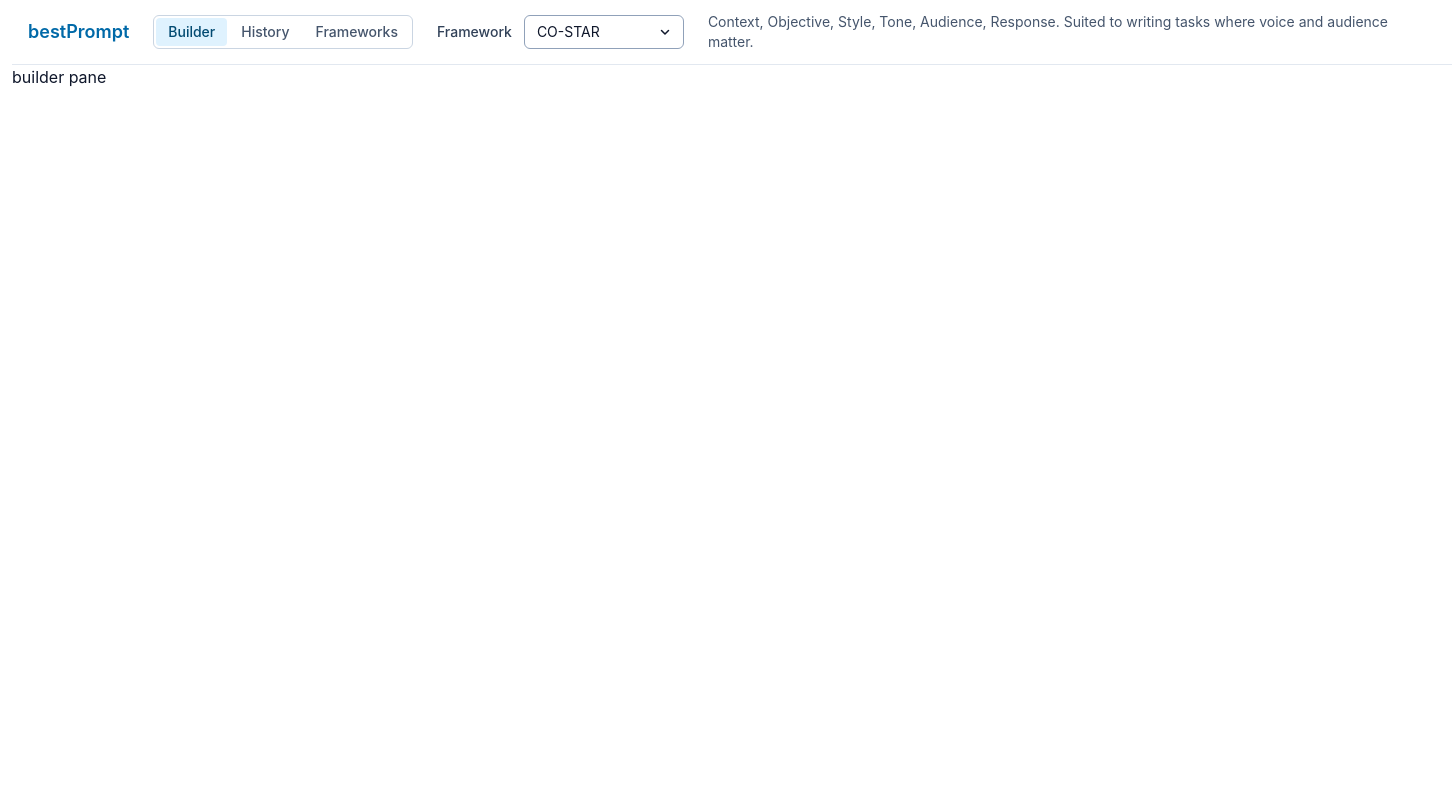
FrameworksView › a_saved_framework_appears_in_the_builder_picker
Click the tab "Frameworks" at (357, 32), box x1=304 y1=18 x2=410 y2=46
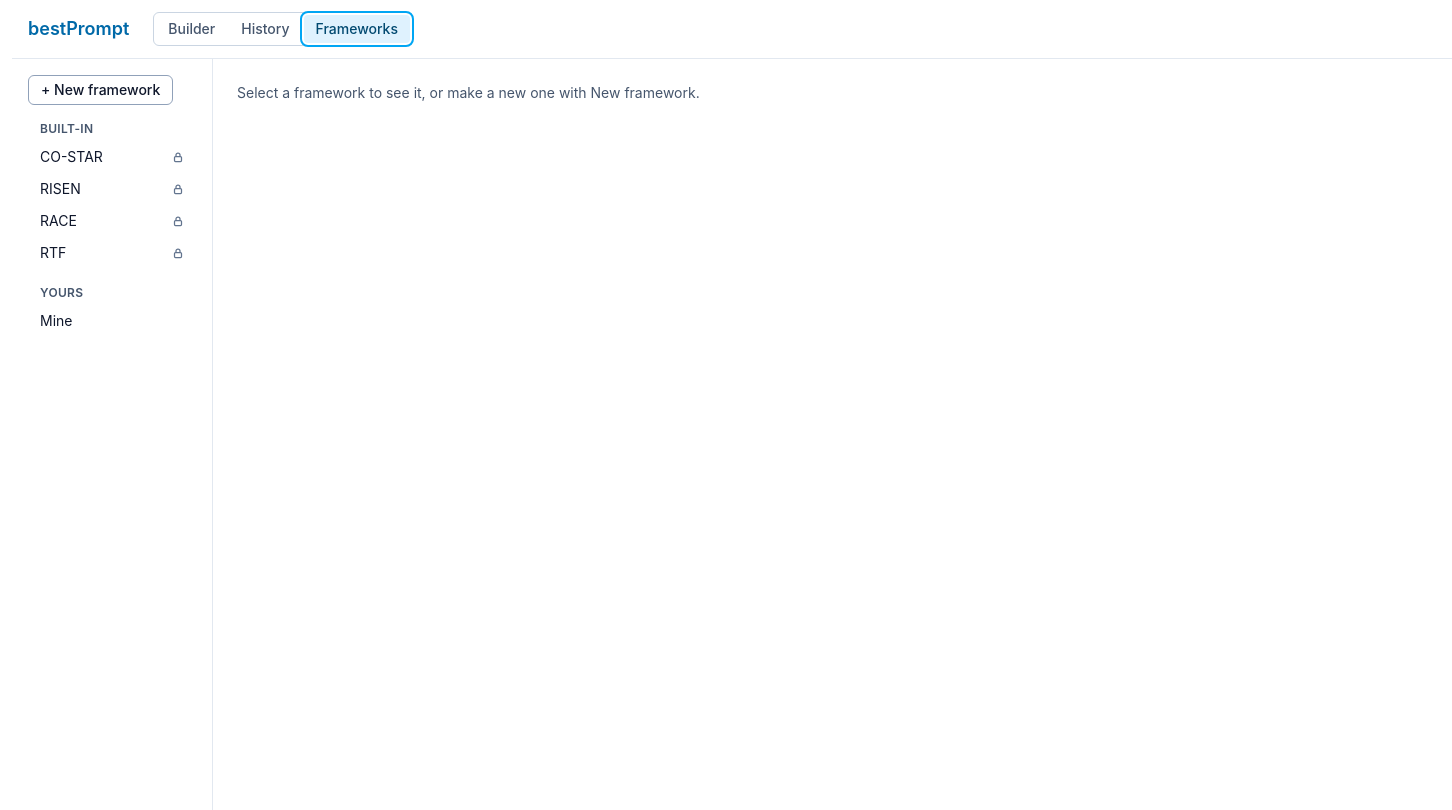
Result: the button "Mine" is shown at x1=28 y1=305 x2=196 y2=337
Click the button "+ New framework" at (101, 90), box x1=28 y1=75 x2=173 y2=105
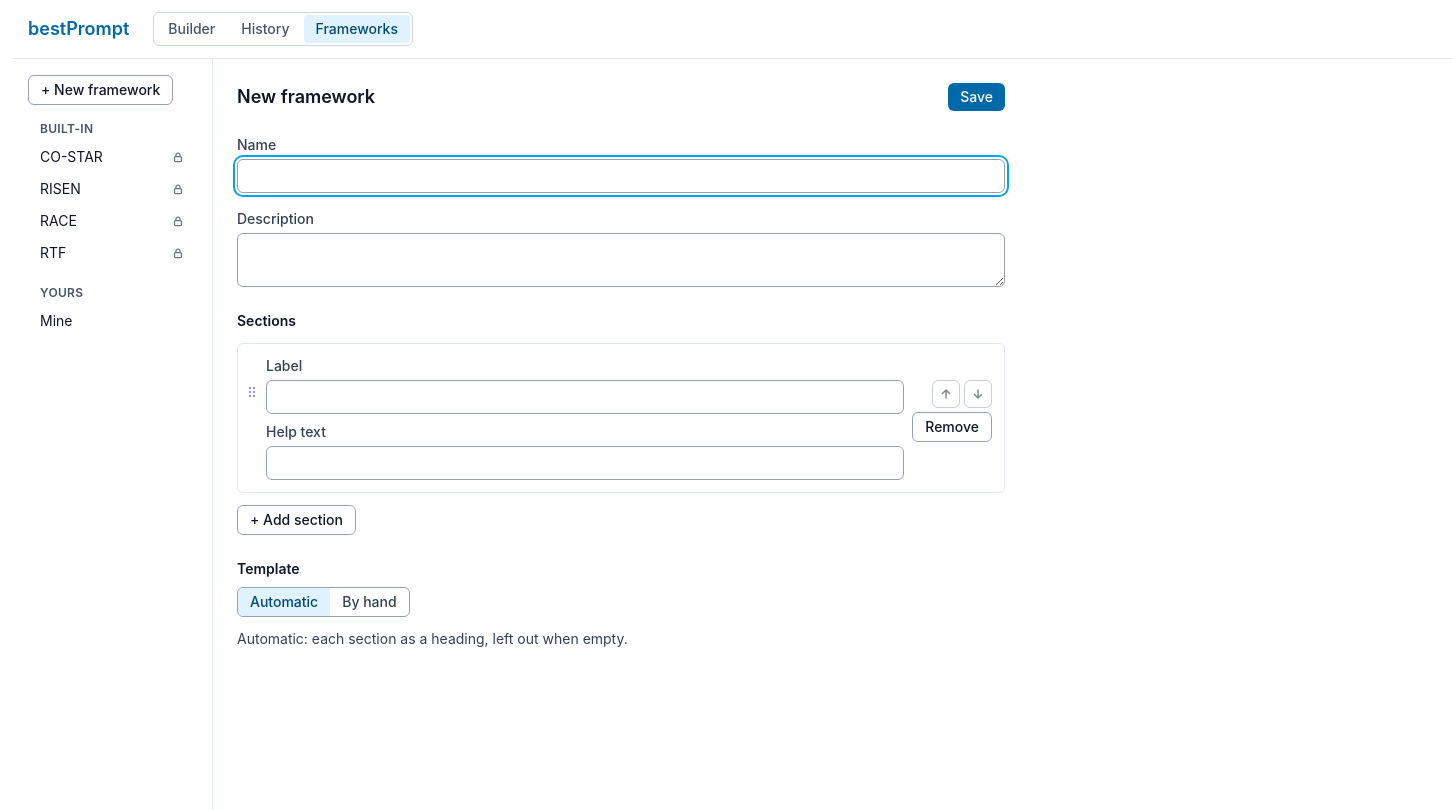
Type "Review" into the field labelled "Name" at (621, 176), box x1=237 y1=159 x2=1005 y2=193
Type "Goal" into the field labelled "Label" at (585, 397), box x1=266 y1=380 x2=904 y2=414
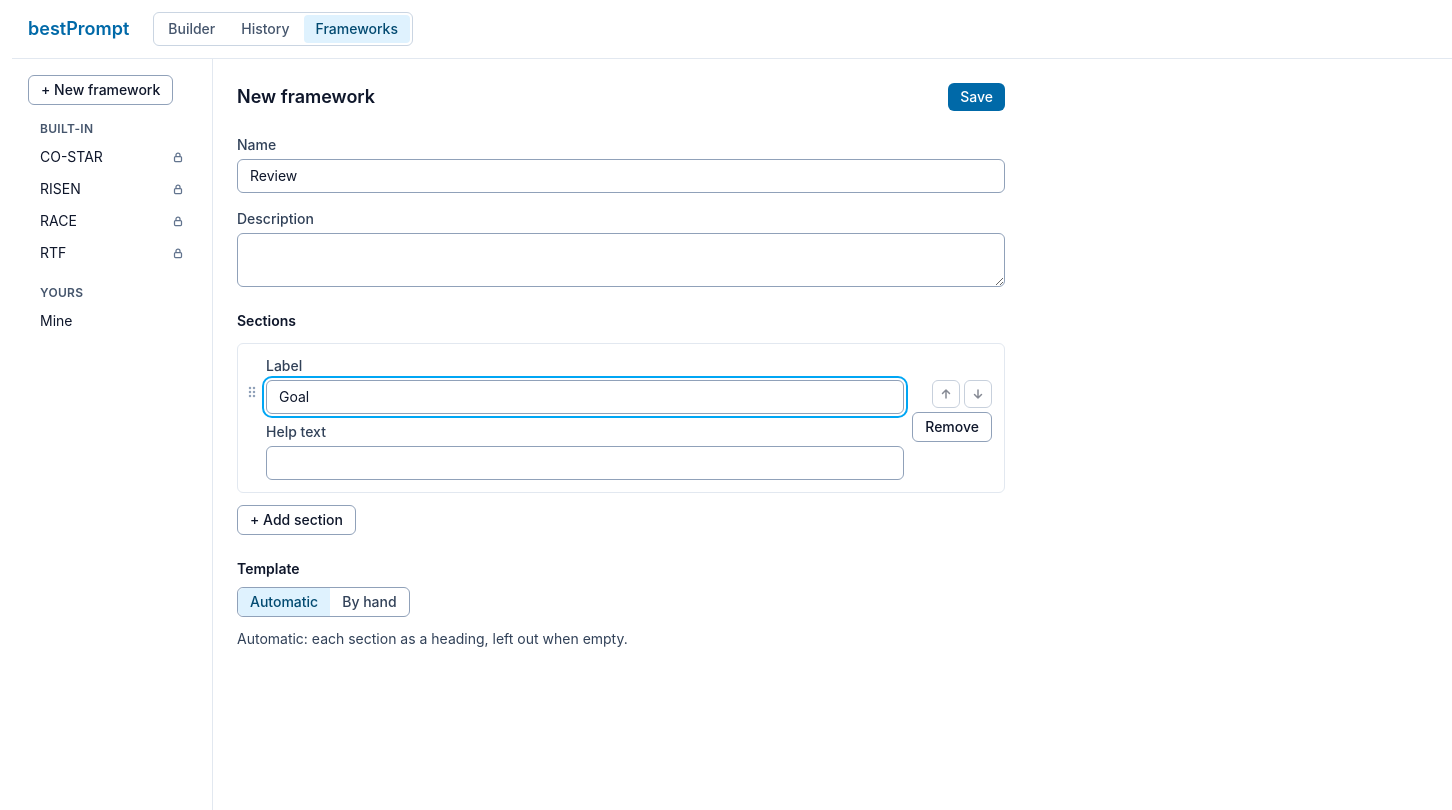
Click the button "Save" at (977, 97), box x1=948 y1=83 x2=1005 y2=111
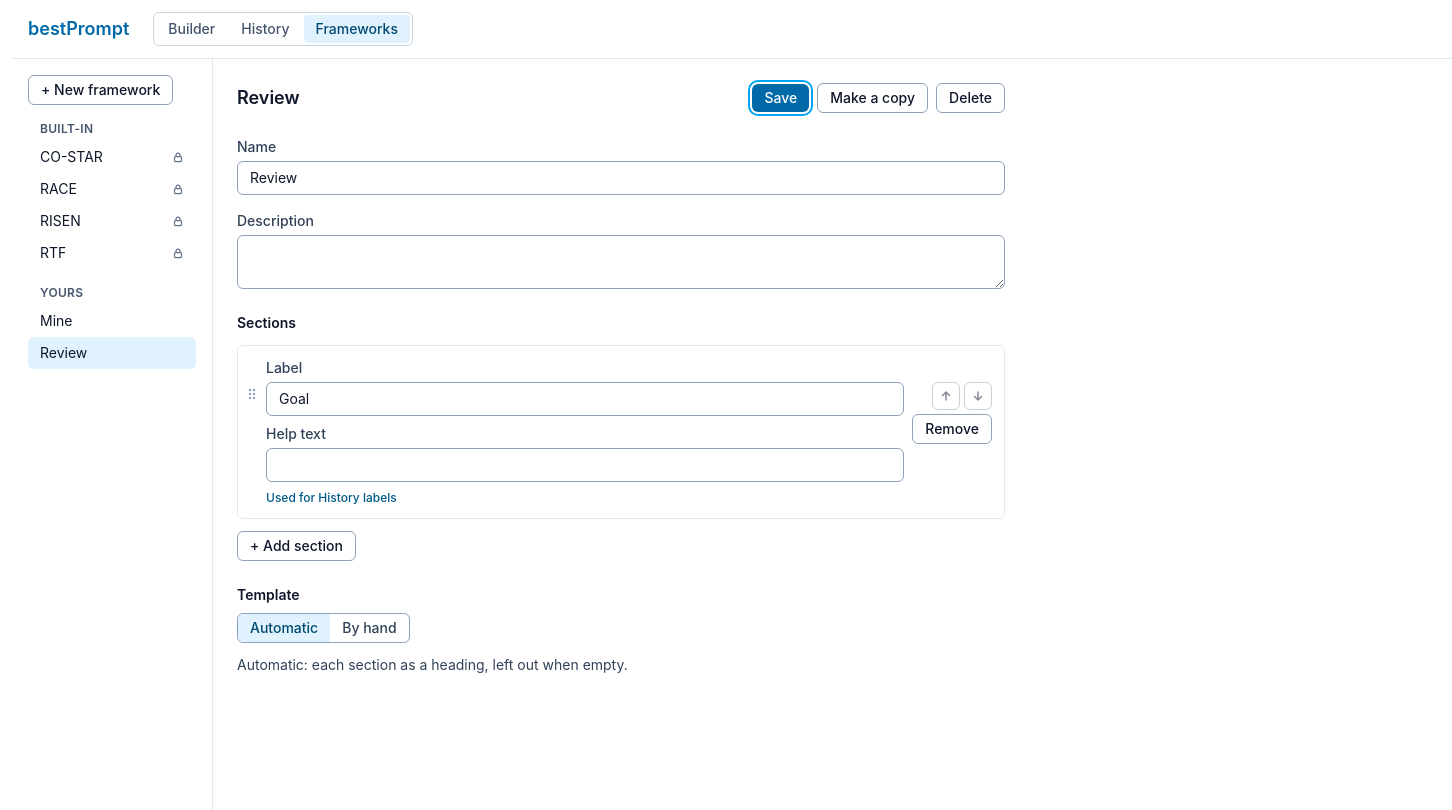
Result: the button with aria-label "Delete Review" is shown at x1=936 y1=83 x2=1005 y2=113
Click the tab "Builder" at (192, 29), box x1=156 y1=15 x2=227 y2=43
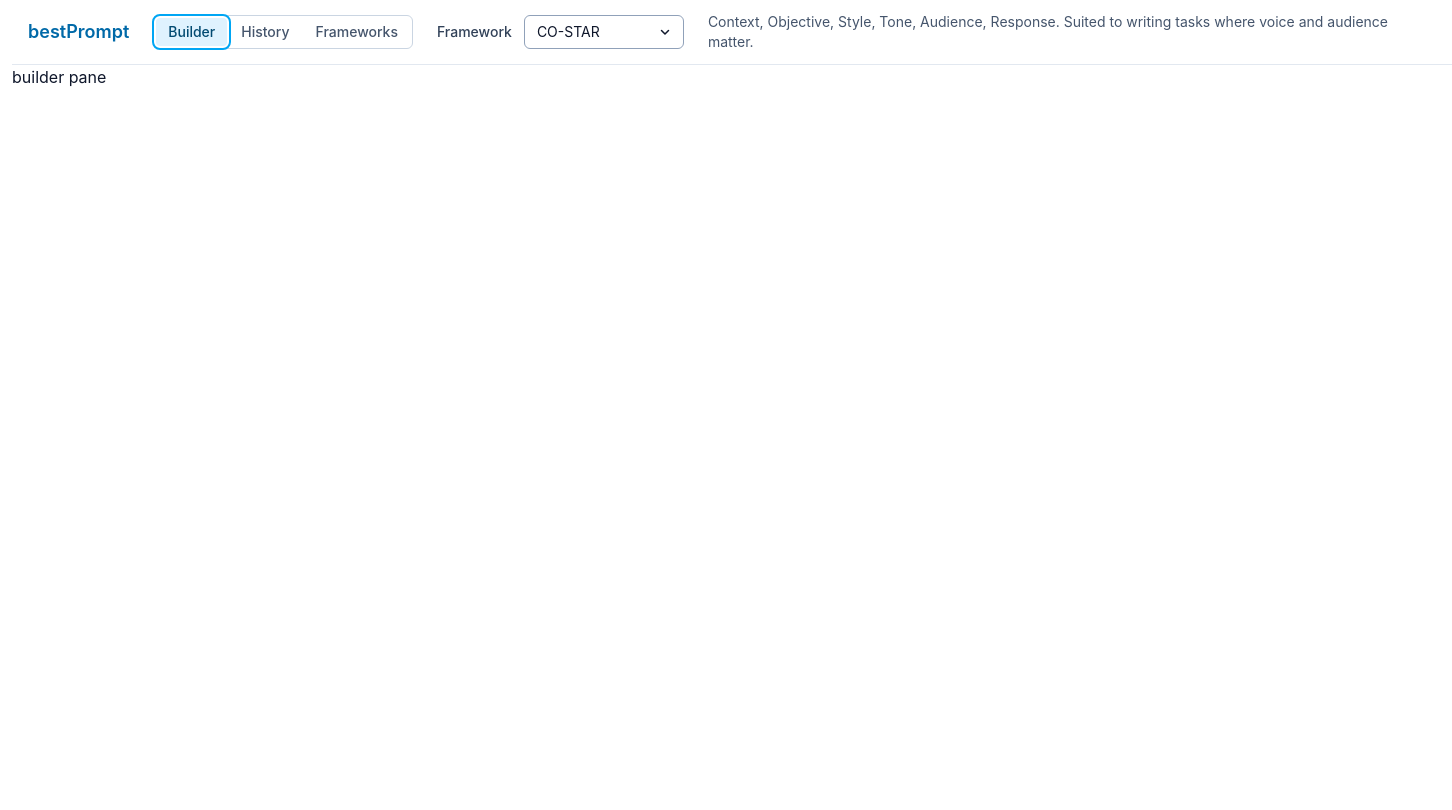
Click the dropdown named "Framework" at (604, 32), box x1=524 y1=15 x2=684 y2=49
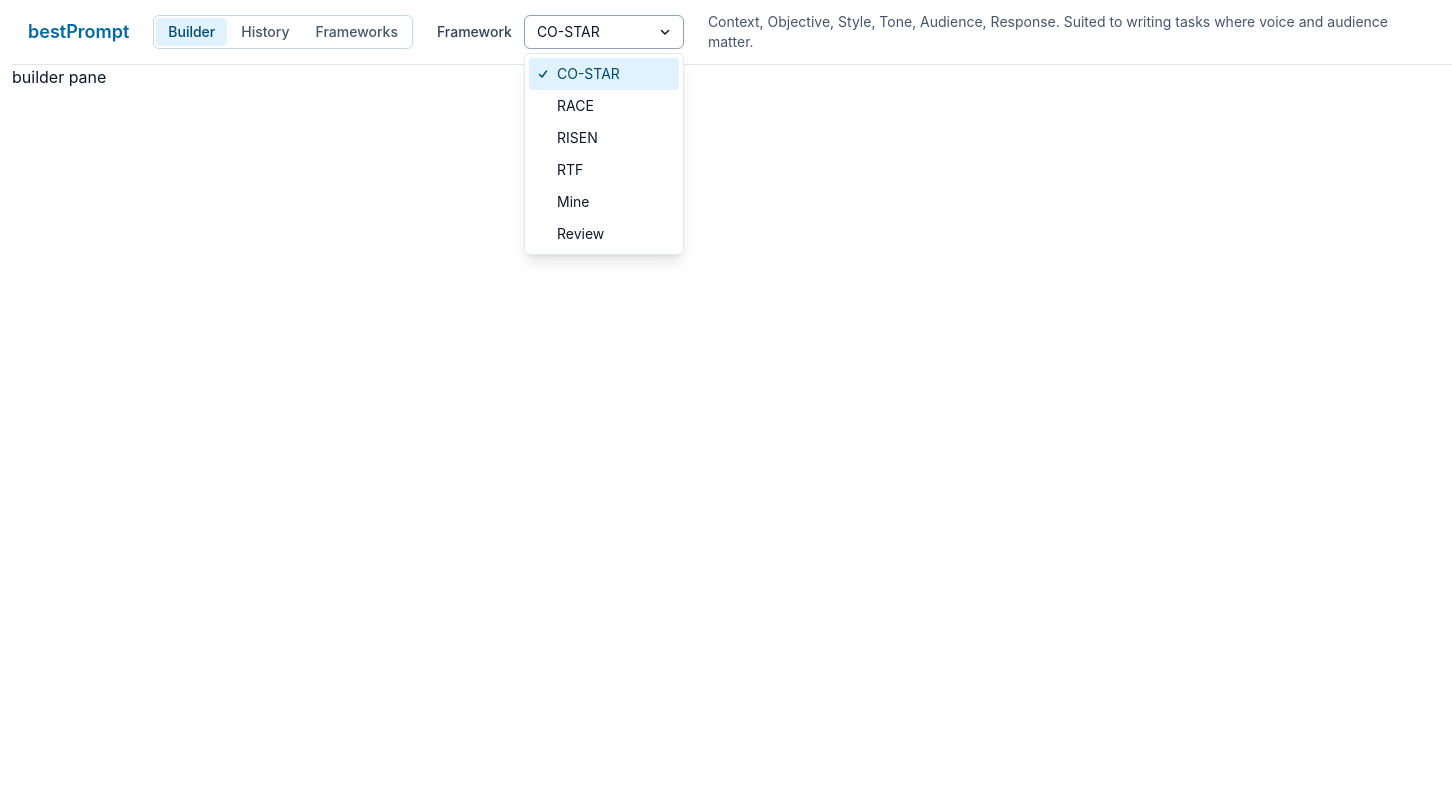
Result: the option "Review" is shown at x1=557 y1=225 x2=604 y2=242
